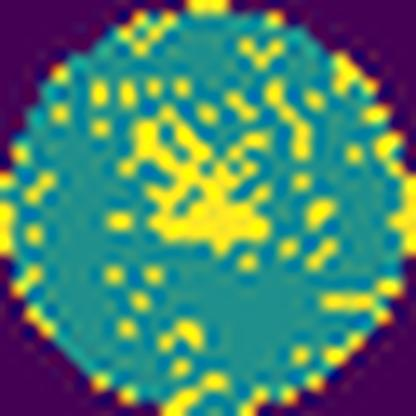Center: (111, 106, 280, 262)
